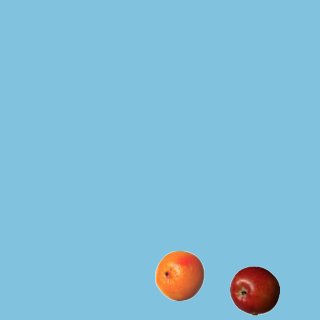Apple Braeburn: (229, 265, 279, 315)
Grapefruit Pink: (154, 250, 204, 300)
